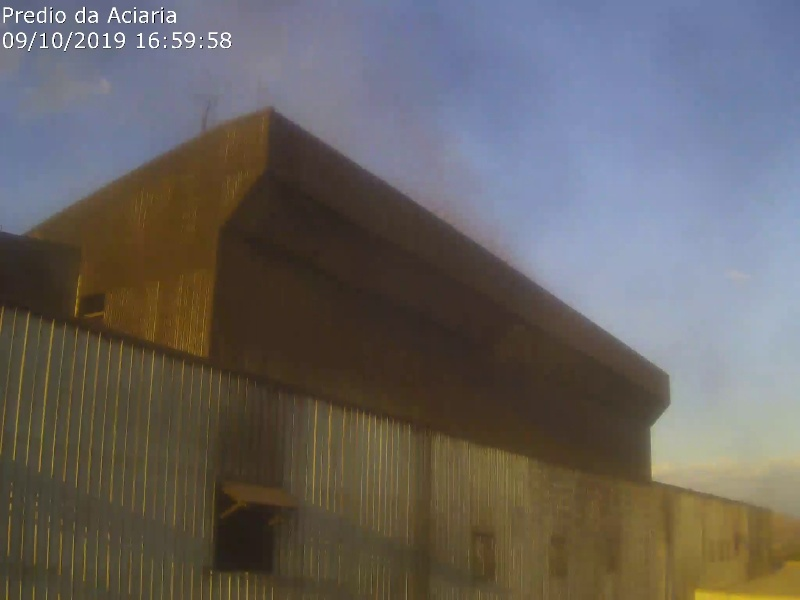ruim: (113, 1, 537, 373)
